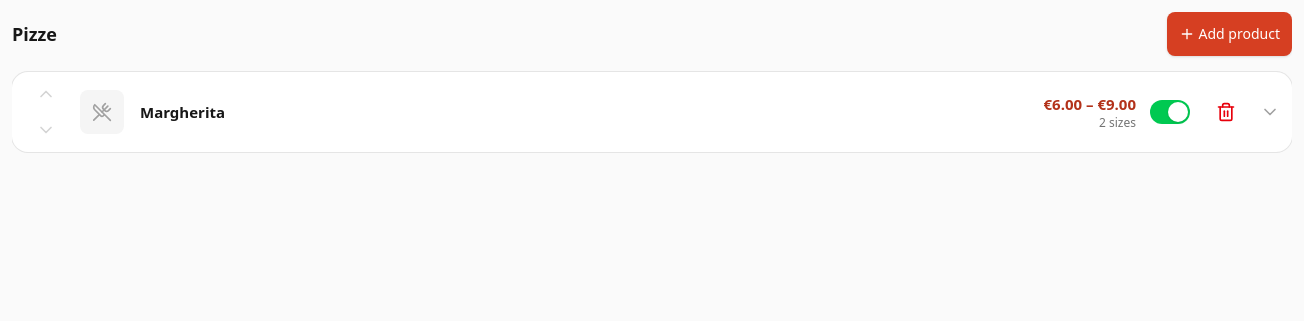
Test: ProductList › shows a price range summary and one price per size once expanded
The width and height of the screenshot is (1304, 321).
Expected: the text "Small" is not shown
Click the button "Margherita". click: (183, 112)
box: [136, 90, 1032, 134]
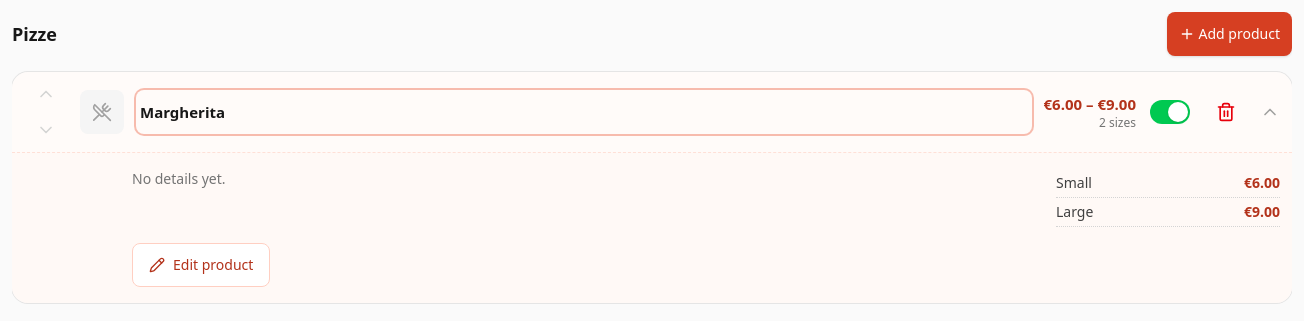
Result: the text "Small" is shown at [1056, 173, 1092, 193]
Result: the text "Large" is shown at [1056, 202, 1093, 222]
Result: the text "€6.00" is shown once at [1244, 173, 1280, 193]
